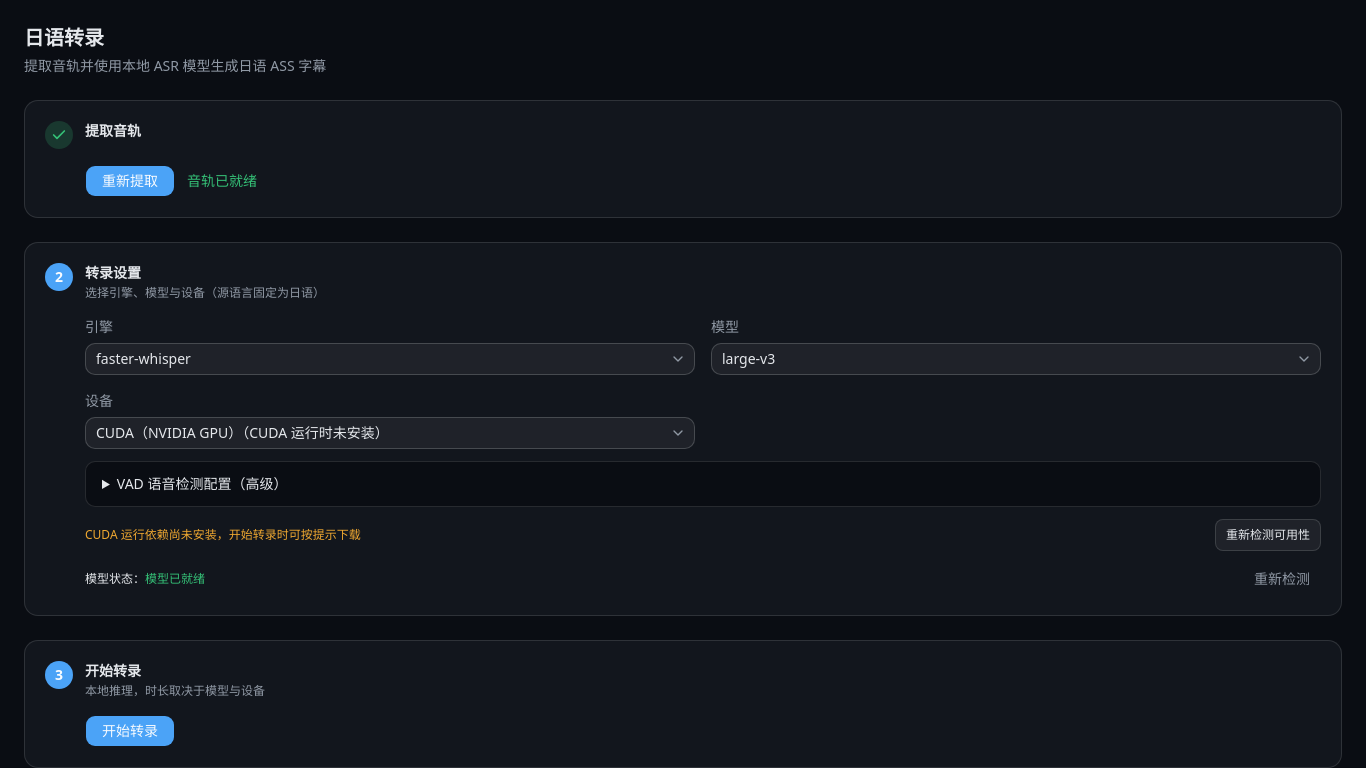
Test case: ctranslate2 CUDA start dependency › opens the correct runtime confirmation from an actual Start click before consent
The image size is (1366, 768).
Expected: the text "CUDA 运行依赖尚未安装，开始转录时可按提示下载" is shown, [85,527,361,543]
Click the button "开始转录" at (130, 731), box [85,715,175,747]
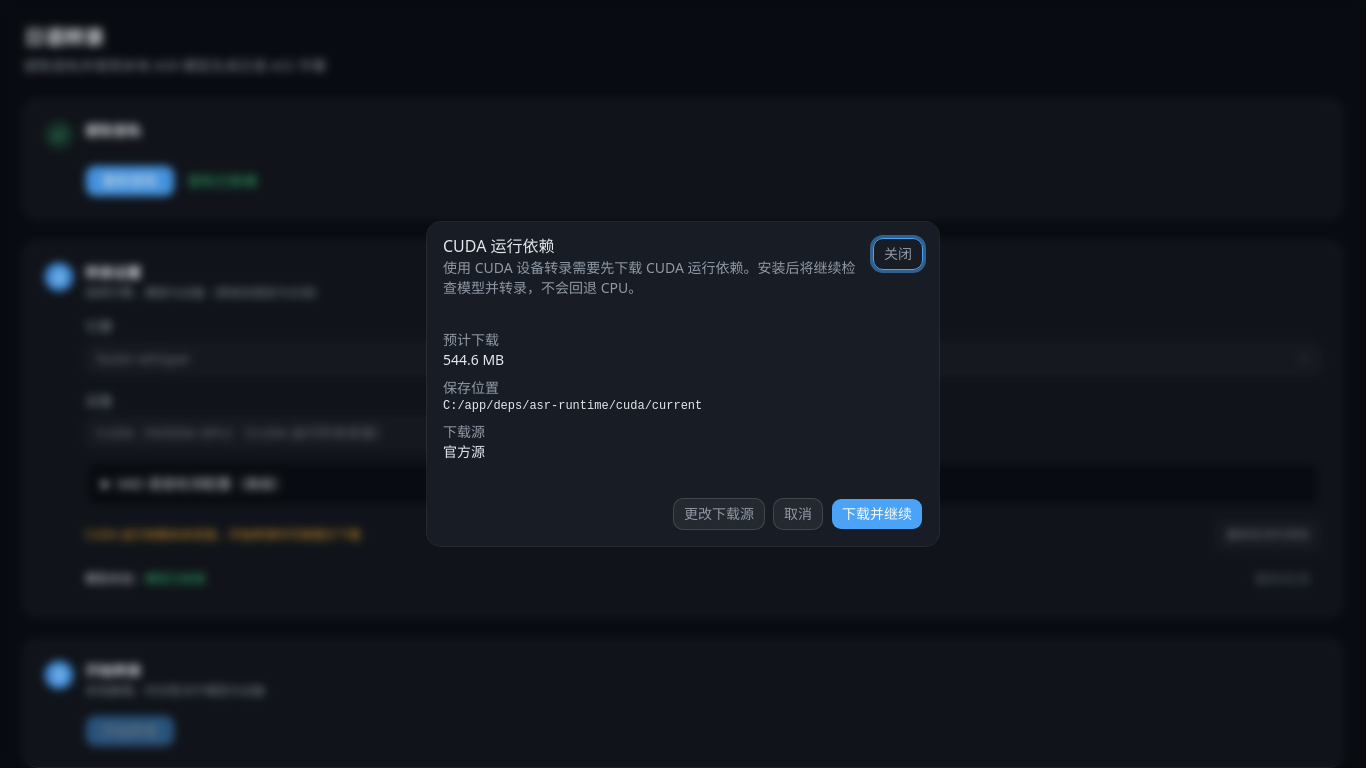
Now the button "下载并继续" is shown, box [831,498,923,530]
Now the heading "CUDA 运行依赖" is shown, box [443,235,555,257]
Now the text "C:/app/deps/asr-runtime/cuda/current" is shown, box [443,399,702,413]
